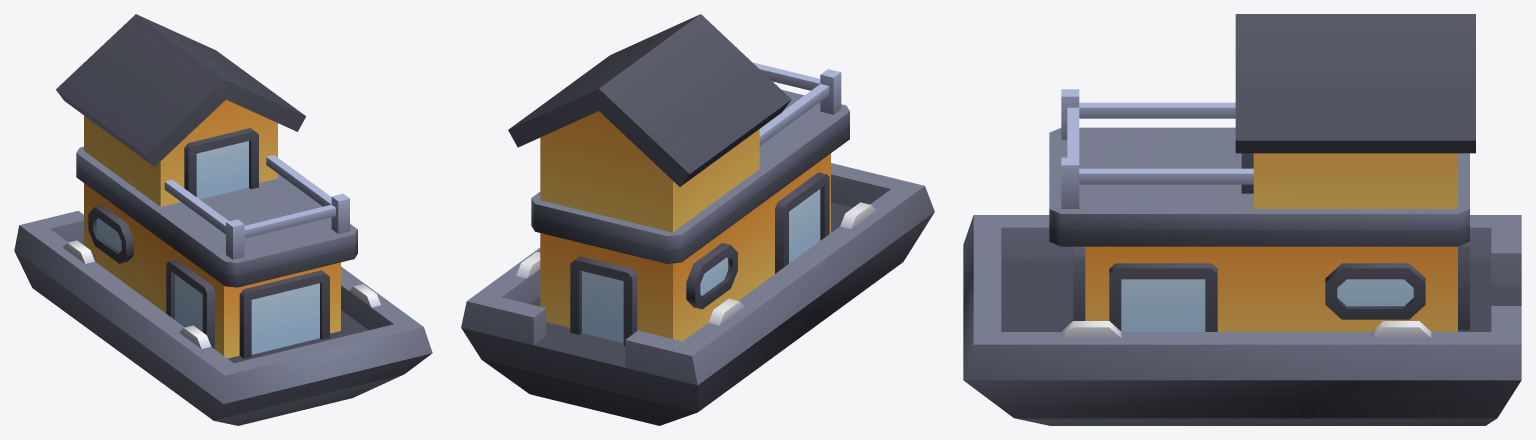
The model's file is boat-house-d.glb.
3 views of the same model, side by side, from view 1: azimuth 30°, elevation 25°; view 2: azimuth 150°, elevation 25°; view 3: azimuth 270°, elevation 25° (orthographic). The views are drawn at different scales.
Parts seen in each view (by area): view 1: boat-house-d; view 2: boat-house-d; view 3: boat-house-d.
Part boxes in pixels (x1,y1,x2,y2): boat-house-d: (14,14,432,425); boat-house-d: (461,14,934,425); boat-house-d: (963,14,1521,425).
Size of the model in its own units: 2.68 by 3.44 by 4.64.
1 material, 1 textured.
